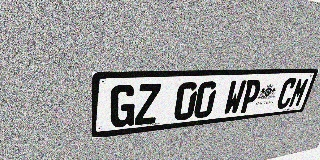0: (173, 82, 199, 121), (193, 81, 218, 119)
C: (275, 78, 298, 109)
G: (110, 84, 137, 128)
M: (288, 77, 310, 108)
P: (238, 79, 263, 114)
W: (222, 80, 247, 115)
Z: (134, 83, 161, 125)
